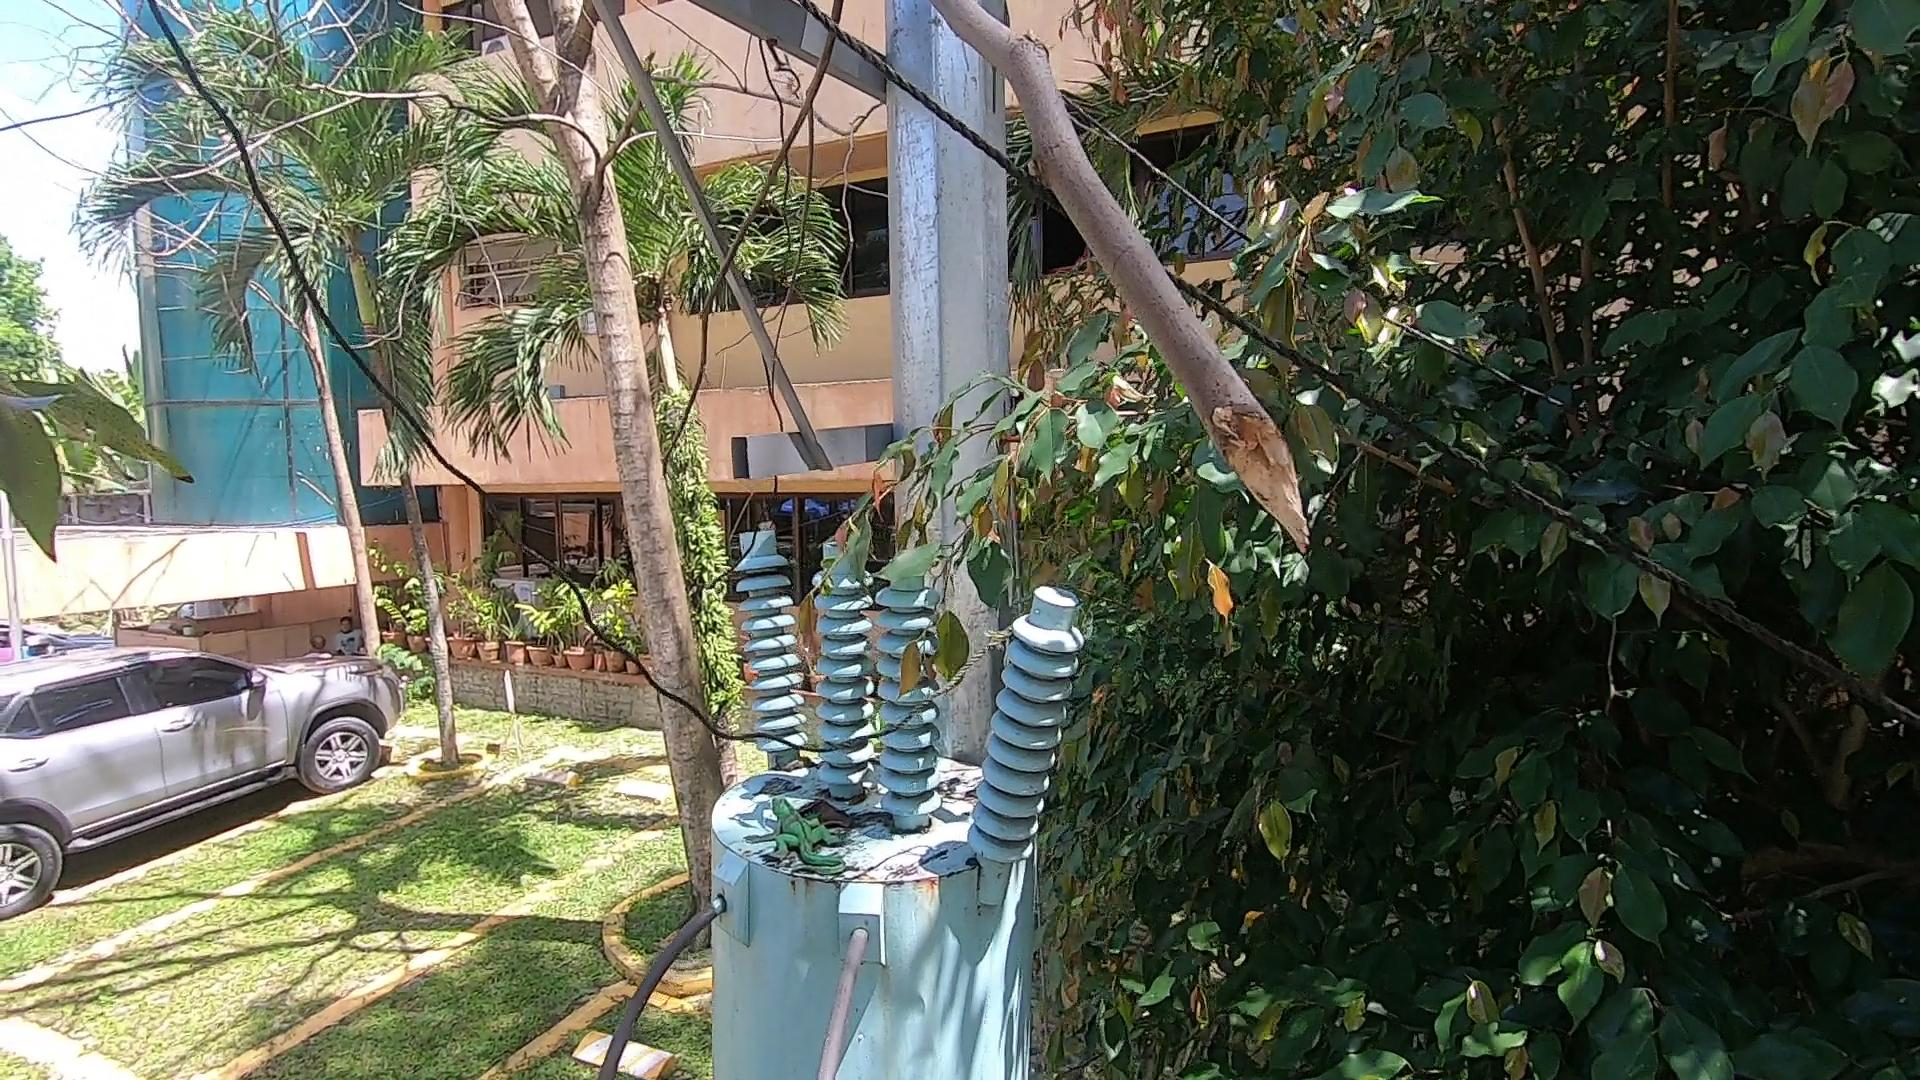branch with leaves: (741, 415, 1026, 694)
leaf: (793, 793, 903, 847), (949, 770, 1010, 815), (774, 753, 828, 789)
tree branch: (673, 1, 1317, 591)
